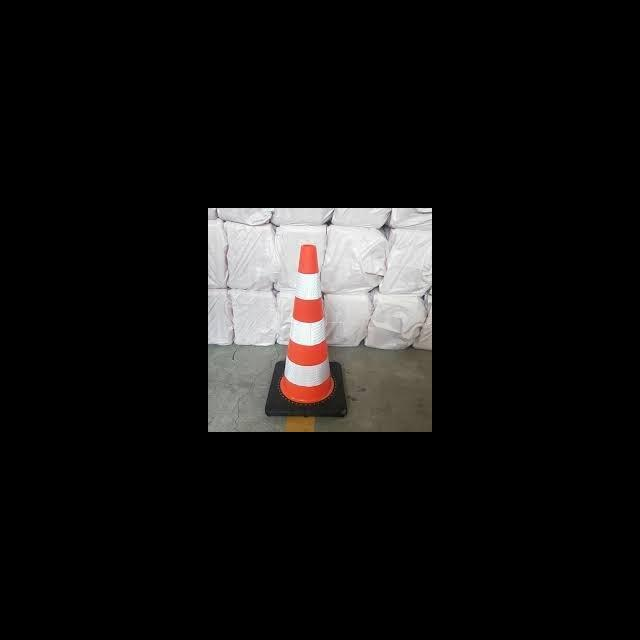Safety Cone: (267, 244, 346, 416)
